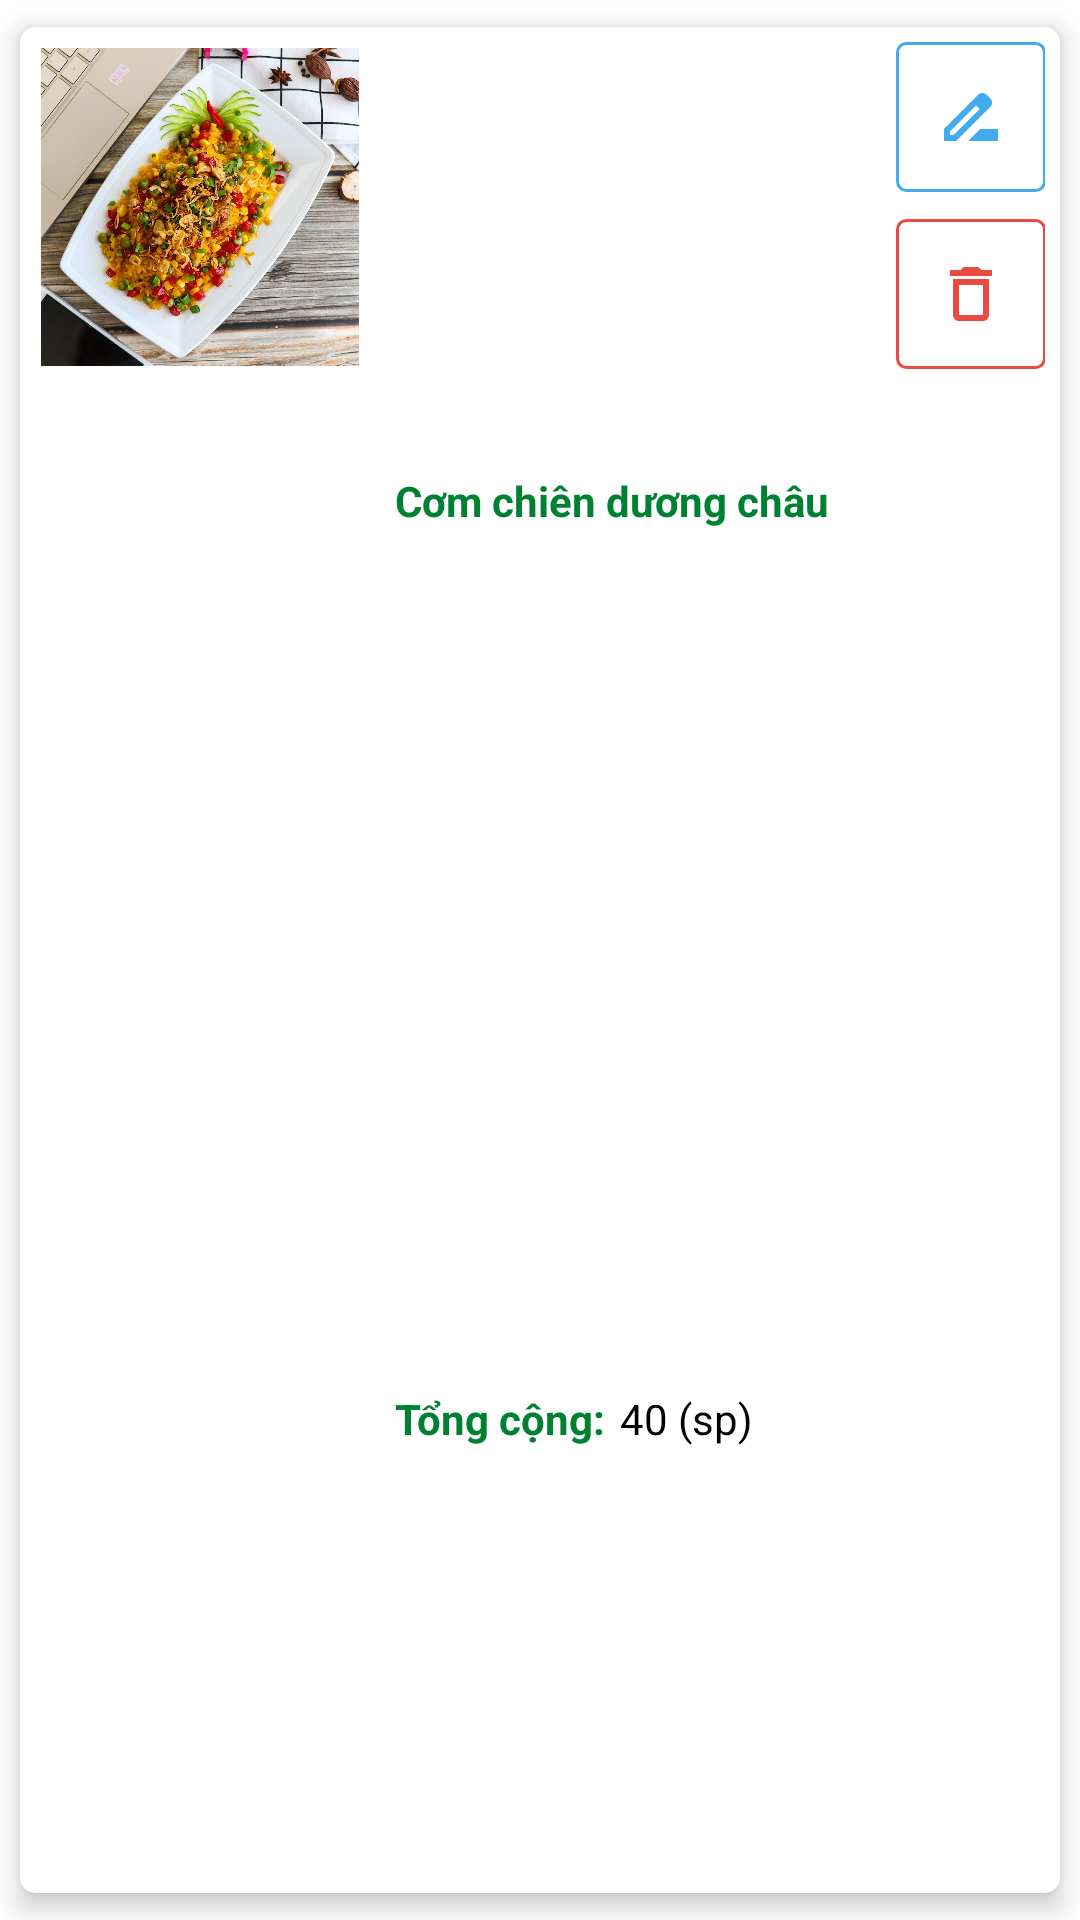

Icons on this 1080w x 1920h Android screen, each with the point to tap as point (x, y):
delete: point (970, 294)
edit: point (970, 117)
product: point (200, 207)
